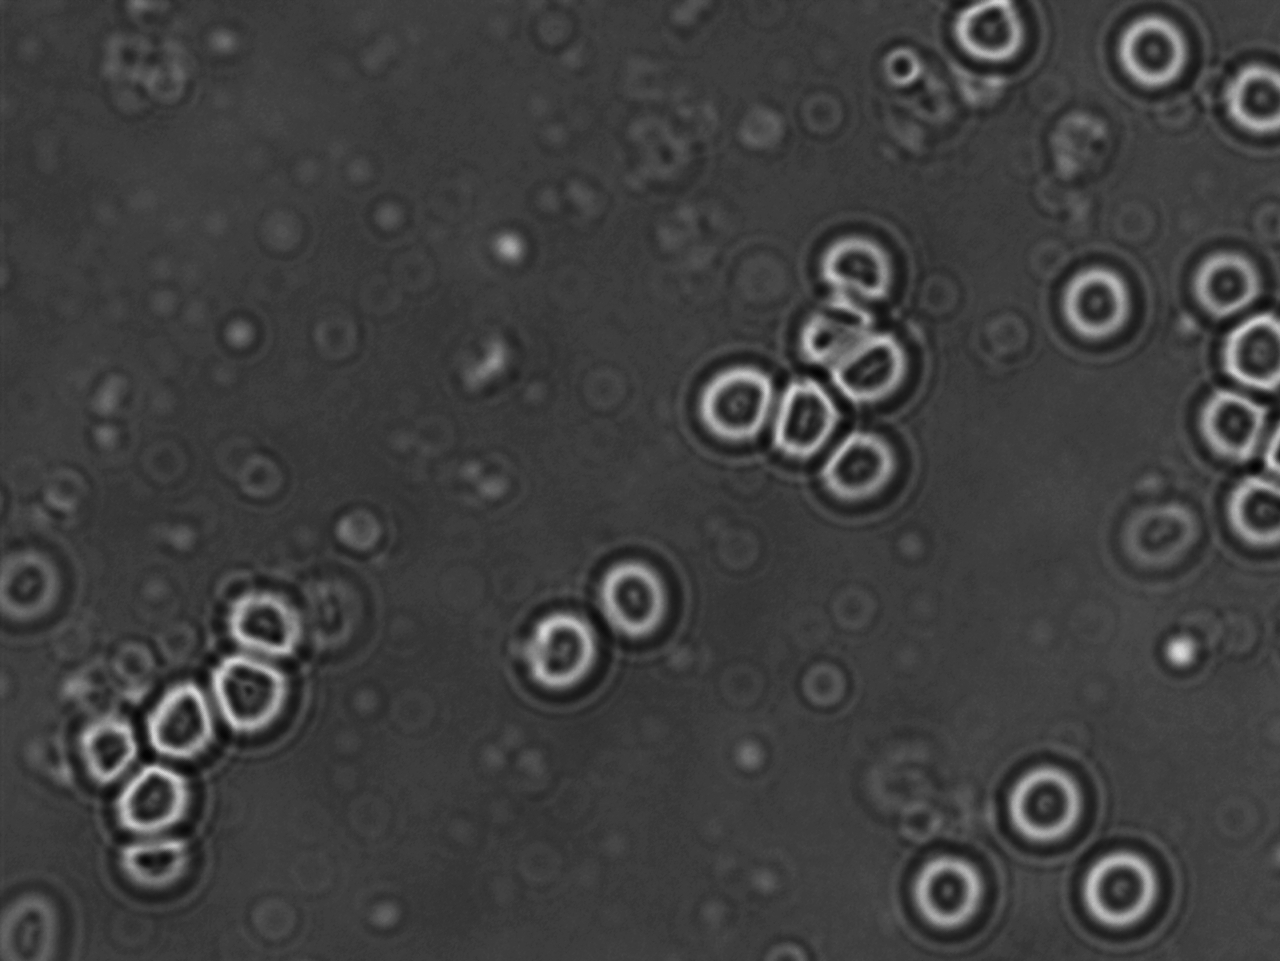depth:8: (578, 538, 701, 660), (989, 735, 1110, 857), (1063, 830, 1184, 947), (201, 636, 322, 748), (497, 593, 613, 707), (87, 742, 211, 848), (676, 347, 796, 456), (206, 561, 327, 669), (1040, 245, 1160, 353), (815, 206, 928, 320), (828, 308, 942, 418), (762, 369, 872, 480), (816, 416, 925, 528), (1175, 220, 1280, 333), (129, 666, 240, 771), (900, 835, 1007, 943), (1180, 375, 1280, 476), (108, 816, 217, 909), (1200, 41, 1280, 151), (1207, 308, 1280, 416), (1209, 451, 1280, 557)
